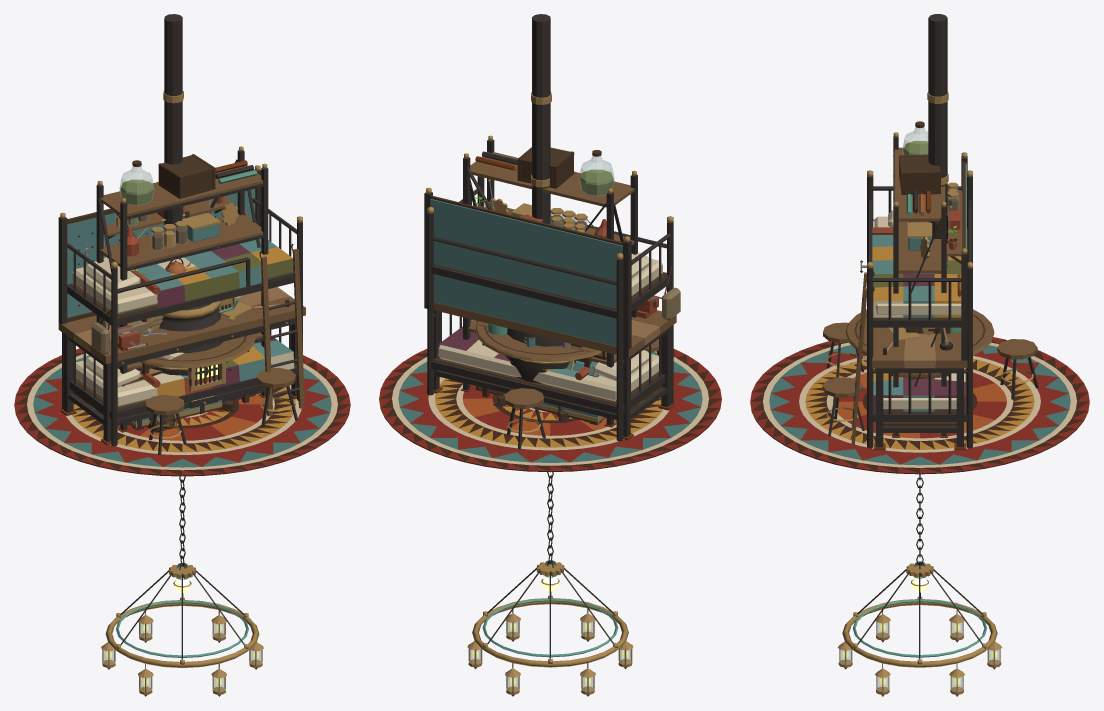
The model's file is hall.glb.
3 views of the same model, side by side, from view 1: azimuth 30°, elevation 25°; view 2: azimuth 150°, elevation 25°; view 3: azimuth 270°, elevation 25° (orthographic).
Parts seen in each view (by area): view 1: bunk, rug, workbench, shelf, stove, chandelier, table, chest, radio; view 2: workbench, rug, bunk, shelf, chandelier, stove, table, chest; view 3: rug, bunk, workbench, shelf, chandelier, table, stove.
Boxes of the visible parts, left/top/right/bottom form: bunk: left=62, top=198, right=304, bottom=446; rug: left=14, top=348, right=350, bottom=476; workbench: left=58, top=165, right=305, bottom=445; shelf: left=96, top=146, right=268, bottom=432; stove: left=152, top=14, right=242, bottom=424; chandelier: left=101, top=476, right=263, bottom=696; table: left=139, top=333, right=298, bottom=454; chest: left=130, top=394, right=255, bottom=430; radio: left=141, top=199, right=249, bottom=427; workbench: left=424, top=187, right=676, bottom=440; rug: left=379, top=349, right=721, bottom=472; bunk: left=427, top=176, right=680, bottom=441; shelf: left=460, top=135, right=637, bottom=427; chandelier: left=467, top=472, right=633, bottom=696; stove: left=487, top=14, right=572, bottom=420; table: left=475, top=321, right=658, bottom=449; chest: left=475, top=360, right=605, bottom=424; rug: left=750, top=337, right=1089, bottom=474; bunk: left=851, top=170, right=972, bottom=448; workbench: left=860, top=152, right=967, bottom=450; shelf: left=892, top=121, right=947, bottom=437; chandelier: left=837, top=474, right=1002, bottom=696; table: left=822, top=309, right=1038, bottom=436; stove: left=862, top=14, right=961, bottom=358.
Size of the model in its own units: 3.2 by 6.78 by 3.2.
